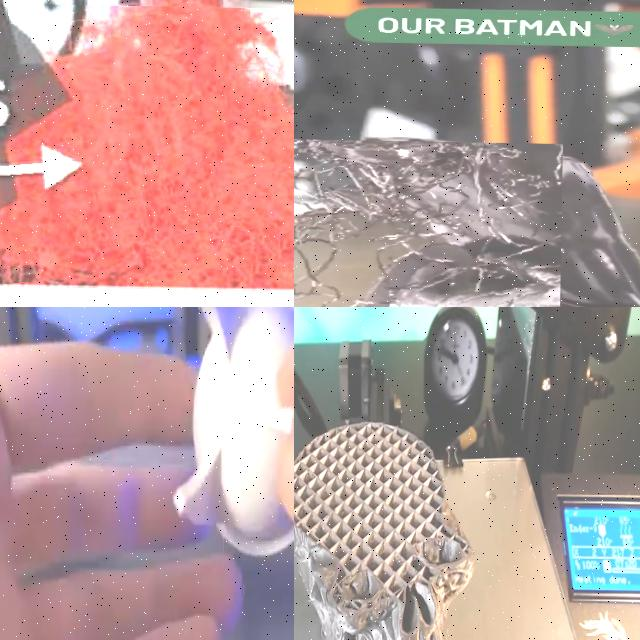spaghetti: (0, 3, 294, 290), (294, 137, 562, 307)
